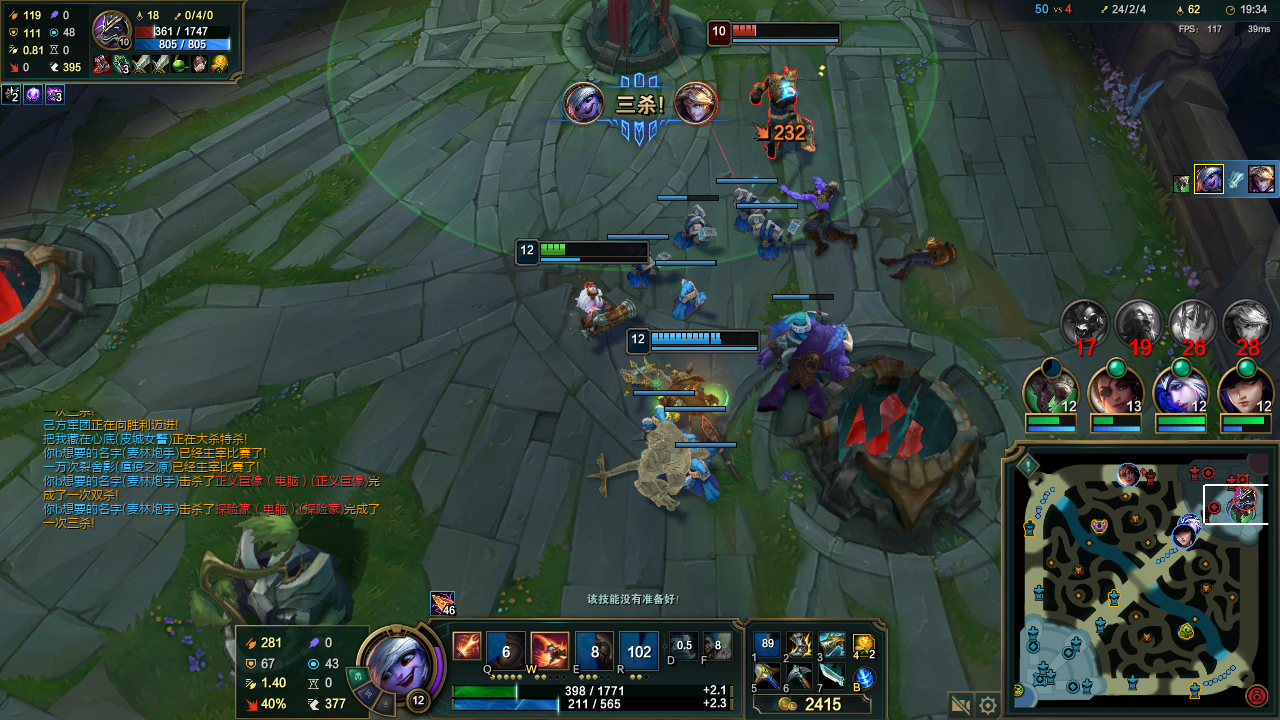DFYX: (735, 22, 833, 37)
WFXB: (746, 215, 805, 272), (675, 210, 729, 257), (768, 305, 829, 346), (732, 186, 783, 234), (673, 461, 727, 505), (638, 406, 694, 448), (671, 427, 725, 467), (667, 276, 711, 323), (632, 255, 673, 290)
